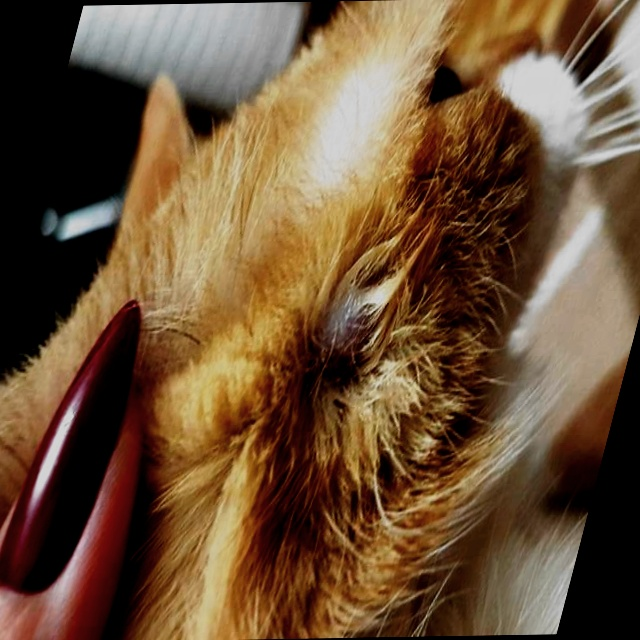lump_and_bump: (319, 276, 391, 345)
